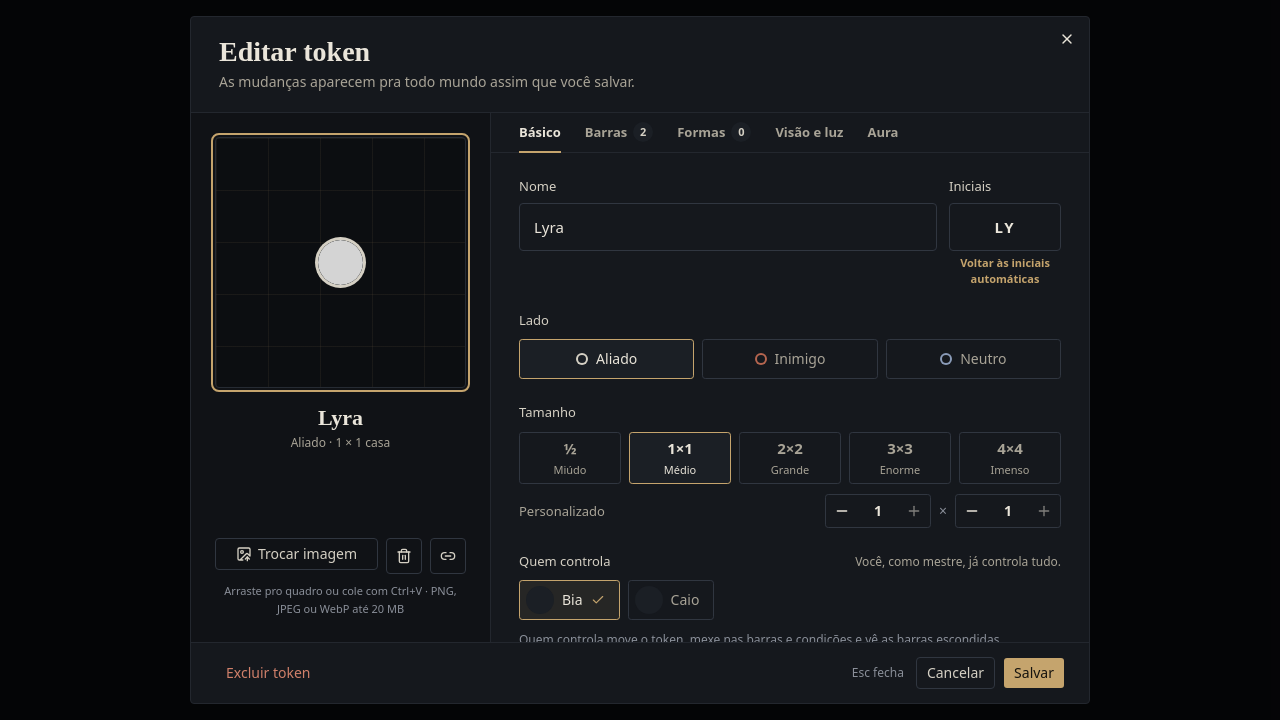
Test case: TokenDialog, the image through the preview › "Remover imagem" brings the initials back
The width and height of the screenshot is (1280, 720).
Click the button named "Remover imagem" at x=404, y=556, box [386,538,422,574]
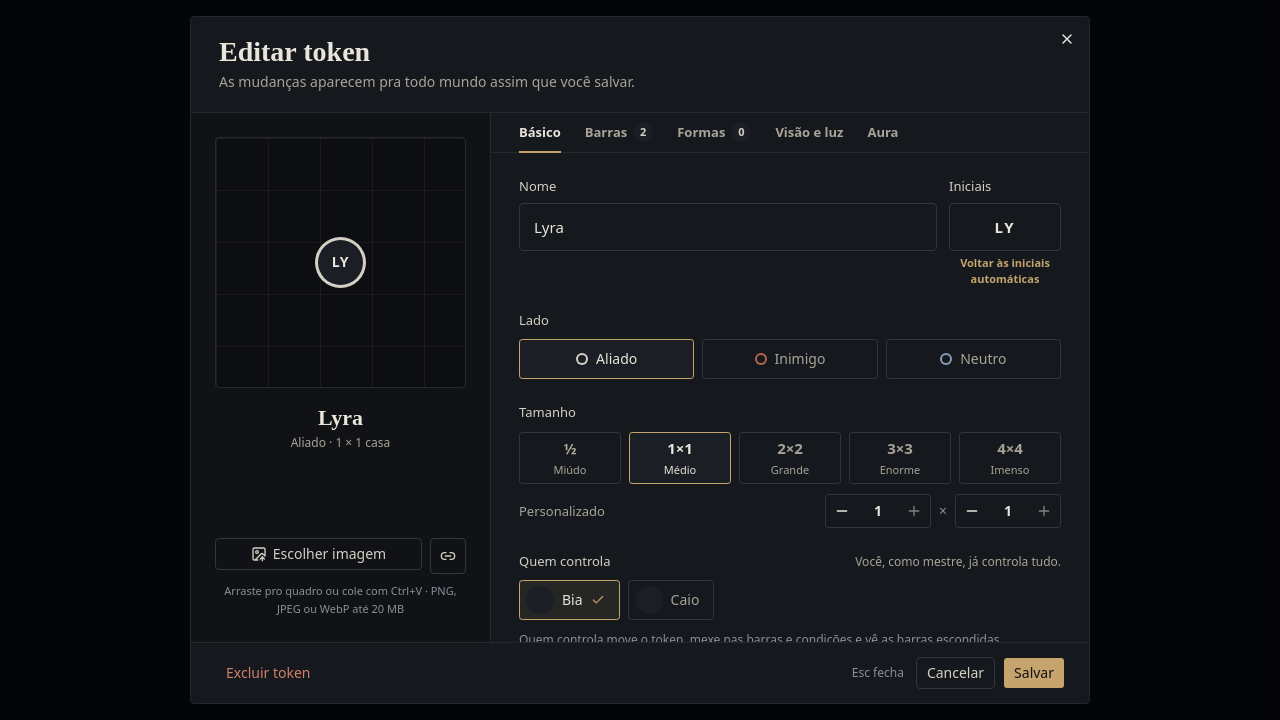
Expected: the text "LY" is shown, [332,252,349,271]
